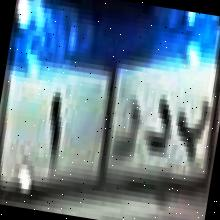1: (37, 84, 73, 166)
baa: (172, 95, 211, 164)
daal: (141, 93, 177, 160)
raa: (108, 94, 144, 166)
